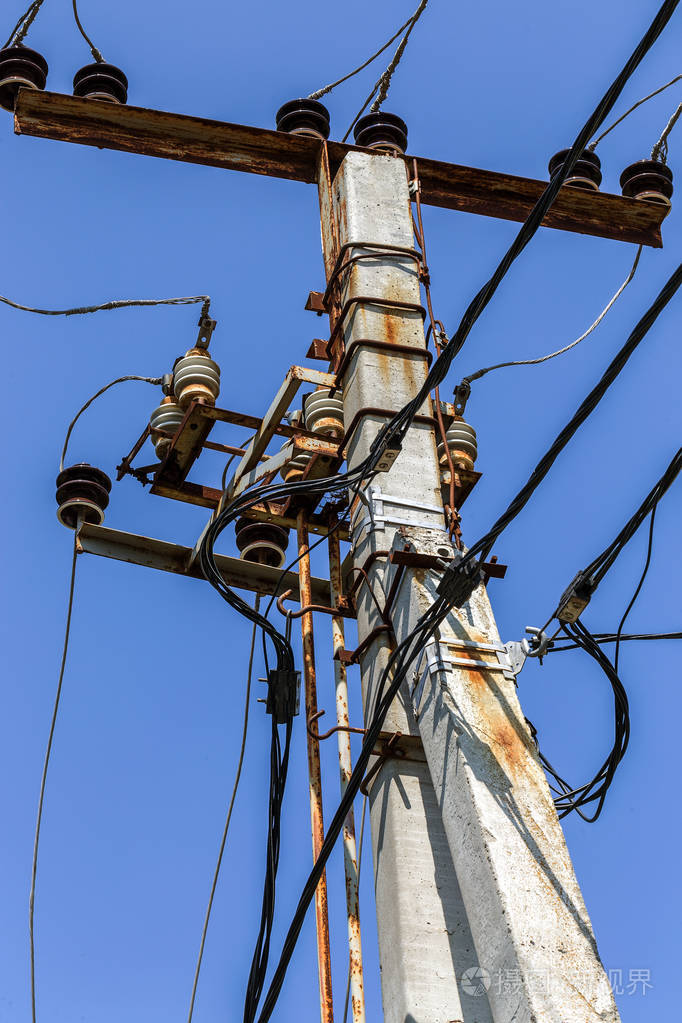insulator: (52, 466, 105, 523), (352, 109, 409, 158), (616, 157, 672, 206), (275, 96, 329, 145), (72, 60, 132, 104), (1, 50, 53, 97), (238, 514, 280, 571), (552, 146, 600, 186)
